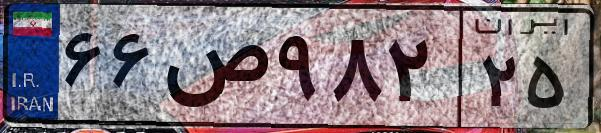2: (385, 28, 445, 110), (475, 38, 525, 113)
5: (525, 38, 570, 115)
6: (57, 26, 110, 100), (110, 28, 158, 98)
8: (330, 28, 385, 110)
9: (270, 28, 330, 110)
ص: (158, 20, 270, 120)
